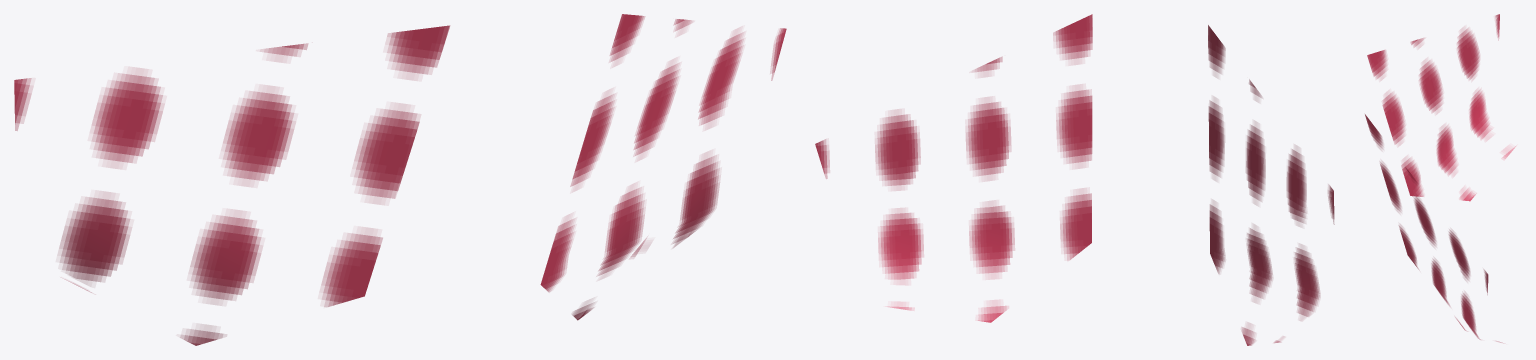
3 renders of one model, left to right at view 1: azimuth 30°, elevation 25°; view 2: azimuth 150°, elevation 25°; view 3: azimuth 270°, elevation 25°, orthographic. The views are drawn at different scales.
Visible parts, largest first — view 1: ef_504; view 2: ef_504; view 3: ef_504.
Part boxes in pixels (box(x1,y1,x2,y2)): ef_504: box(14, 14, 786, 345); ef_504: box(815, 14, 1334, 345); ef_504: box(1365, 14, 1515, 342).
Size of the model in its own units: 0.5627 by 0.2947 by 0.1921.
Materials: 1 (1 with a texture image).
